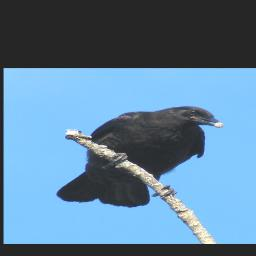Crow: (55, 105, 226, 209)
